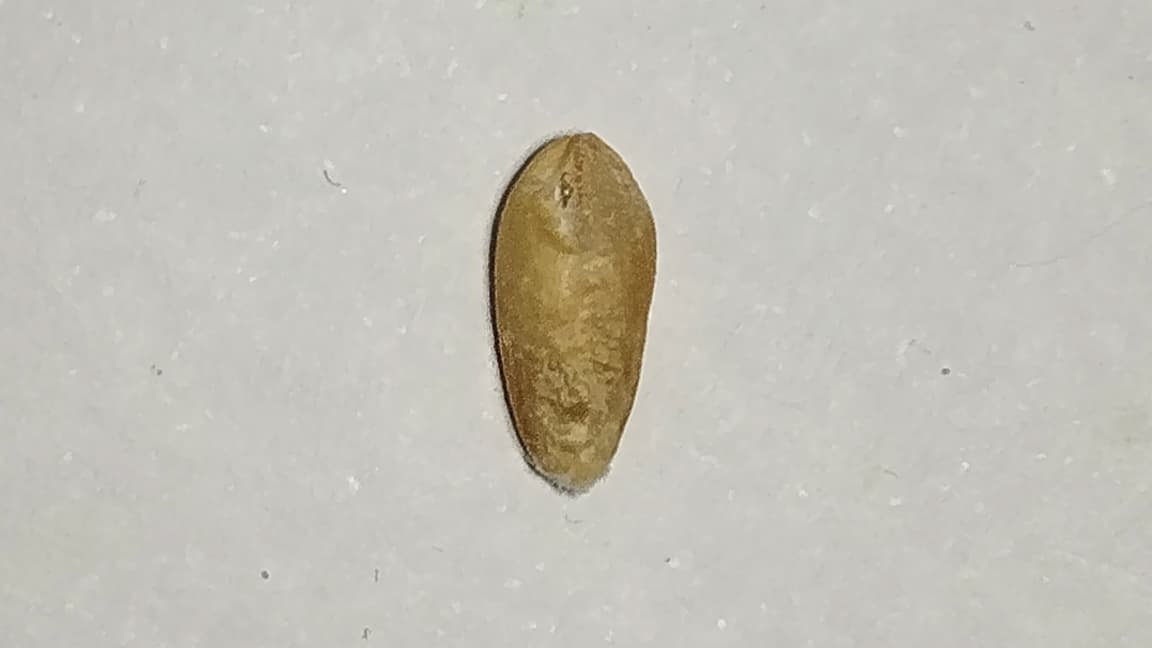damage: (488, 132, 657, 497)
insectdamage: (521, 356, 603, 448), (547, 133, 605, 232)
